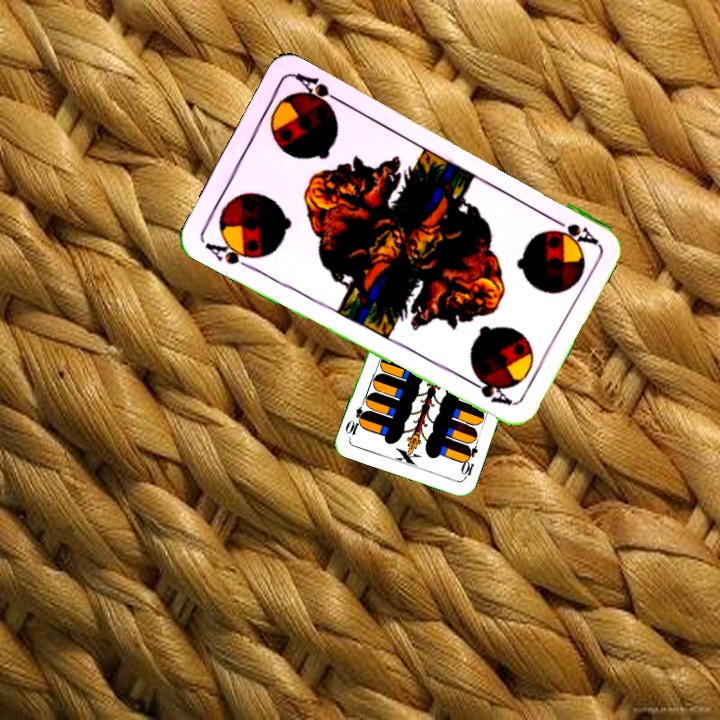E10: (457, 442, 481, 482)
SA: (200, 234, 261, 273), (545, 212, 600, 248)
